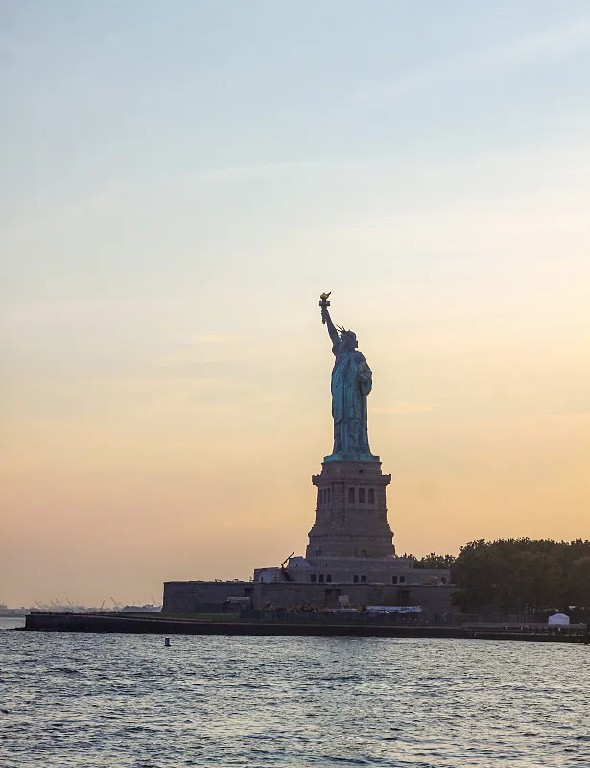SL: (305, 289, 395, 560)
